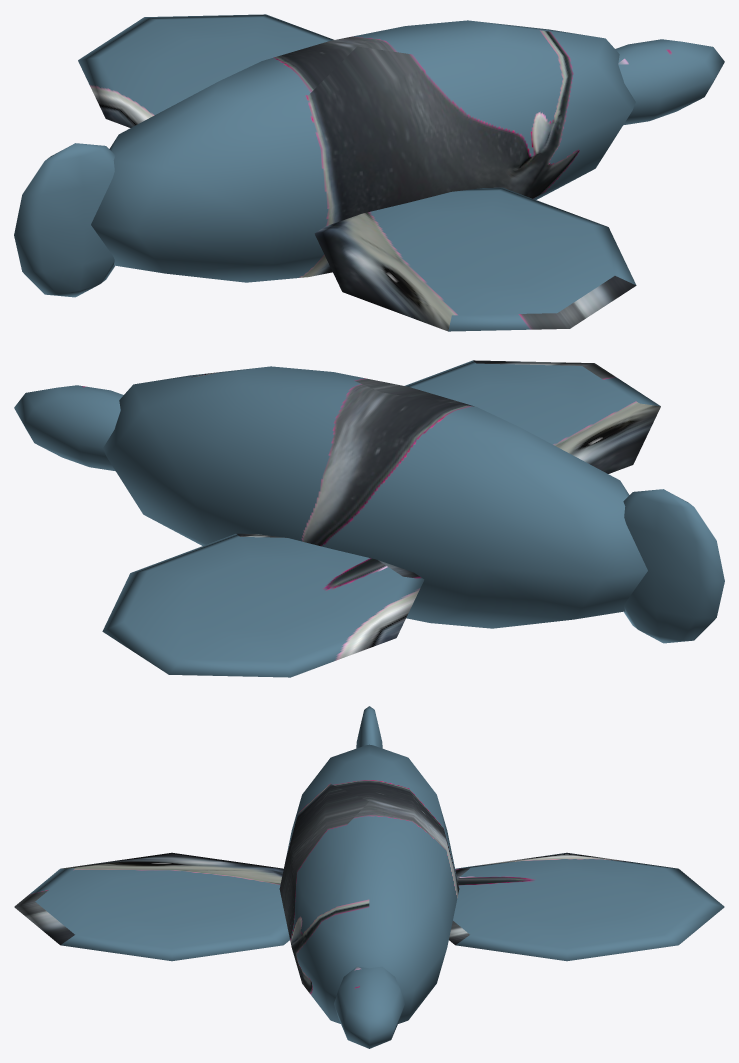
File: ray.glb
3 renders of one model, top to bottom at view 1: azimuth 30°, elevation 25°; view 2: azimuth 150°, elevation 25°; view 3: azimuth 270°, elevation 25°, orthographic. The views are drawn at different scales.
Parts seen in each view (by area): view 1: ray_body; view 2: ray_body; view 3: ray_body.
Part boxes in pixels (x1,y1,x2,y2): ray_body: (14, 14, 724, 331); ray_body: (14, 360, 724, 677); ray_body: (14, 706, 724, 1048).
Bounding box in the file's own units: 4.25 × 1.2 × 4.41.
Materials: 1 (1 with a texture image).
